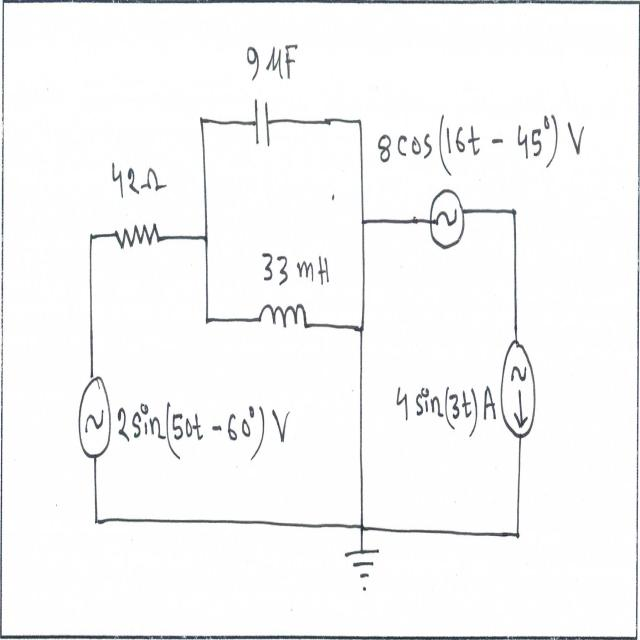ac_current: (74, 375, 114, 465), (429, 185, 467, 252)
capacitor: (250, 90, 276, 158)
current_source: (498, 334, 537, 446)
ground: (341, 542, 386, 602)
inductor: (255, 294, 311, 342)
resistor: (109, 216, 166, 258)
